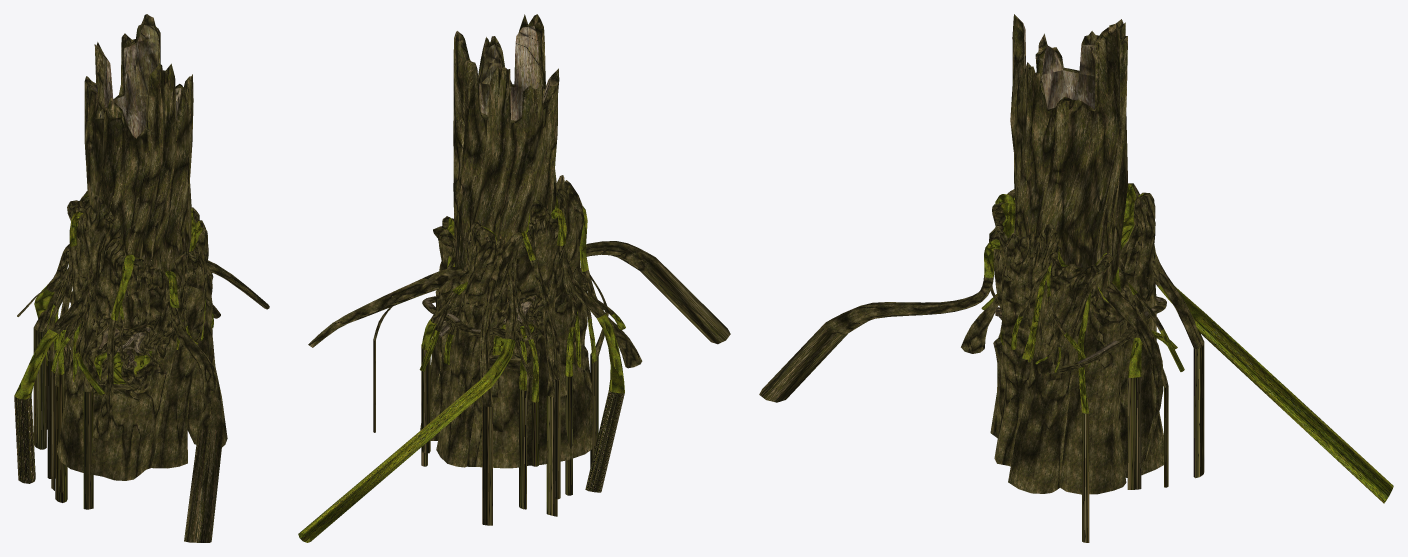
The picture shows the model from 3 angles, left to right: view 1: azimuth 30°, elevation 25°; view 2: azimuth 150°, elevation 25°; view 3: azimuth 270°, elevation 25°; orthographic projection. The views are drawn at different scales.
Visible parts, largest first — view 1: mesh11, mesh10, mesh2, mesh3, mesh12; view 2: mesh11, mesh10, mesh3, mesh2, mesh12; view 3: mesh11, mesh10, mesh2, mesh3, mesh12.
Boxes of the visible parts, x1,y1,x2,y2 form: mesh11: (14,14,269,542); mesh10: (14,211,213,399); mesh2: (92,25,181,138); mesh3: (17,200,220,391); mesh12: (74,193,202,384); mesh11: (308,14,730,525); mesh10: (298,206,625,542); mesh3: (373,239,613,406); mesh2: (424,26,551,332); mesh12: (443,196,558,355); mesh11: (759,14,1204,542); mesh10: (981,194,1393,503); mesh2: (1023,24,1165,363); mesh3: (1020,192,1204,387); mesh12: (1000,183,1143,303).
Size of the model in its own units: 84.61 by 131 by 149.
